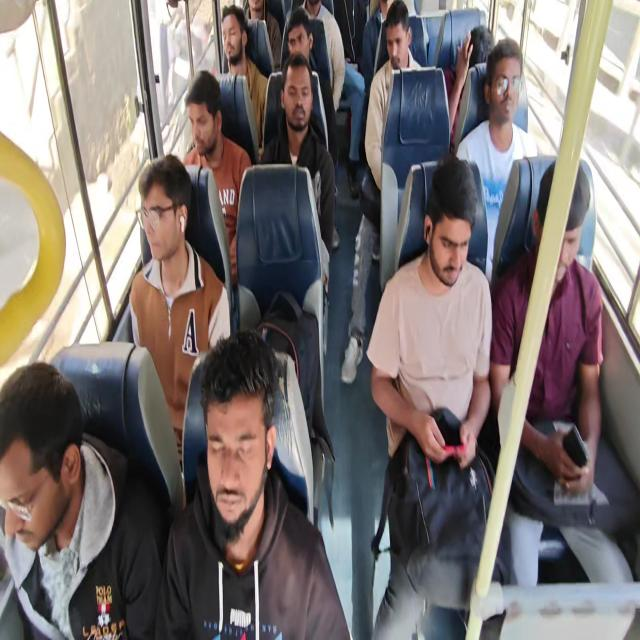person: (193, 334, 281, 568), (0, 354, 75, 622), (521, 144, 595, 324), (121, 160, 213, 304), (418, 176, 481, 286), (276, 61, 318, 170), (493, 46, 542, 138), (186, 63, 223, 159), (328, 0, 370, 81), (218, 6, 258, 80), (386, 5, 408, 88), (289, 21, 321, 77), (243, 0, 279, 36), (465, 23, 495, 61), (376, 0, 411, 20), (298, 0, 326, 24)
